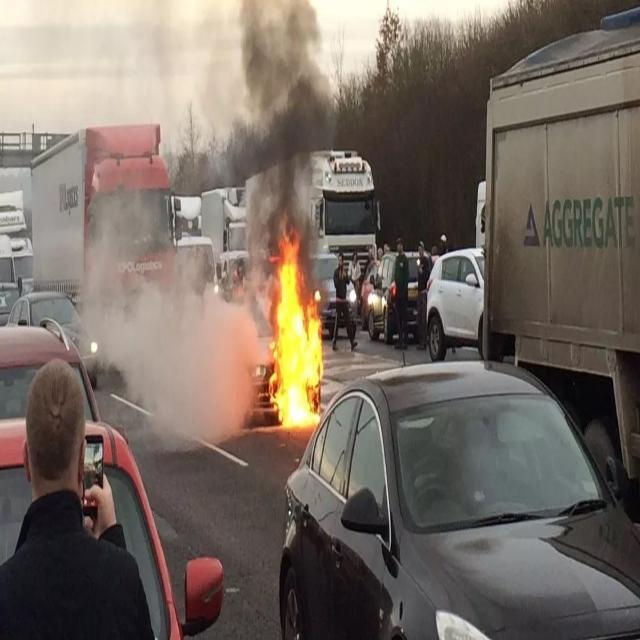Fire: (271, 243, 322, 426)
Smoke: (35, 0, 334, 243), (70, 242, 264, 447)
